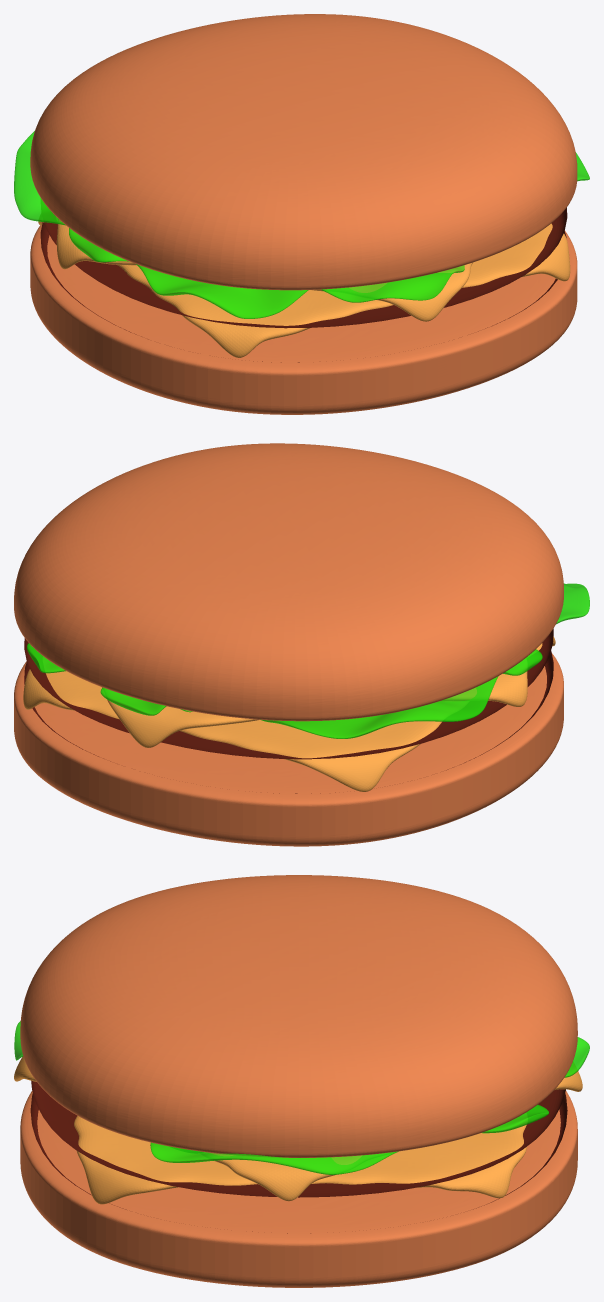
File: hamburger.glb
3 views of the same model, one above another, from view 1: azimuth 30°, elevation 25°; view 2: azimuth 150°, elevation 25°; view 3: azimuth 270°, elevation 25° (orthographic). The views are drawn at different scales.
Parts seen in each view (by area): view 1: Cube.002, Cube, Cheese 1, Cube.003, Lettuce.001, Cheese 2, Lettuce, Lettuce.003, Lettuce.002, Cube.001; view 2: Cube.002, Cube, Cheese 1, Cube.003, Cheese 2, Lettuce.003, Lettuce.001, Lettuce, Cube.001; view 3: Cube.002, Cube, Cheese 1, Cube.003, Cheese 2, Lettuce.002, Cube.001, Lettuce, Lettuce.001.
Part boxes in pixels (bbox=[...]): Cube.002: bbox=[30, 14, 577, 290]; Cube: bbox=[30, 225, 577, 414]; Cheese 1: bbox=[38, 221, 570, 357]; Cube.003: bbox=[44, 207, 567, 328]; Lettuce.001: bbox=[136, 264, 308, 318]; Cheese 2: bbox=[56, 219, 472, 321]; Lettuce: bbox=[321, 265, 464, 302]; Lettuce.003: bbox=[14, 131, 65, 225]; Lettuce.002: bbox=[69, 152, 589, 262]; Cube.001: bbox=[40, 222, 566, 362]; Cube.002: bbox=[14, 443, 563, 721]; Cube: bbox=[14, 653, 563, 846]; Cheese 1: bbox=[23, 636, 555, 791]; Cube.003: bbox=[24, 629, 553, 759]; Cheese 2: bbox=[102, 671, 527, 747]; Lettuce.003: bbox=[260, 676, 498, 738]; Lettuce.001: bbox=[27, 583, 589, 673]; Lettuce: bbox=[100, 687, 192, 715]; Cube.001: bbox=[24, 650, 553, 793]; Cube.002: bbox=[20, 875, 577, 1157]; Cube: bbox=[20, 1091, 577, 1287]; Cheese 1: bbox=[74, 1116, 526, 1204]; Cube.003: bbox=[31, 1080, 565, 1197]; Cheese 2: bbox=[14, 1056, 582, 1201]; Lettuce.002: bbox=[150, 1142, 398, 1174]; Cube.001: bbox=[30, 1093, 567, 1233]; Lettuce: bbox=[14, 1021, 589, 1077]; Lettuce.001: bbox=[482, 1104, 548, 1133].
Bounding box in the file's own units: 9.37 × 4.37 × 9.47.
